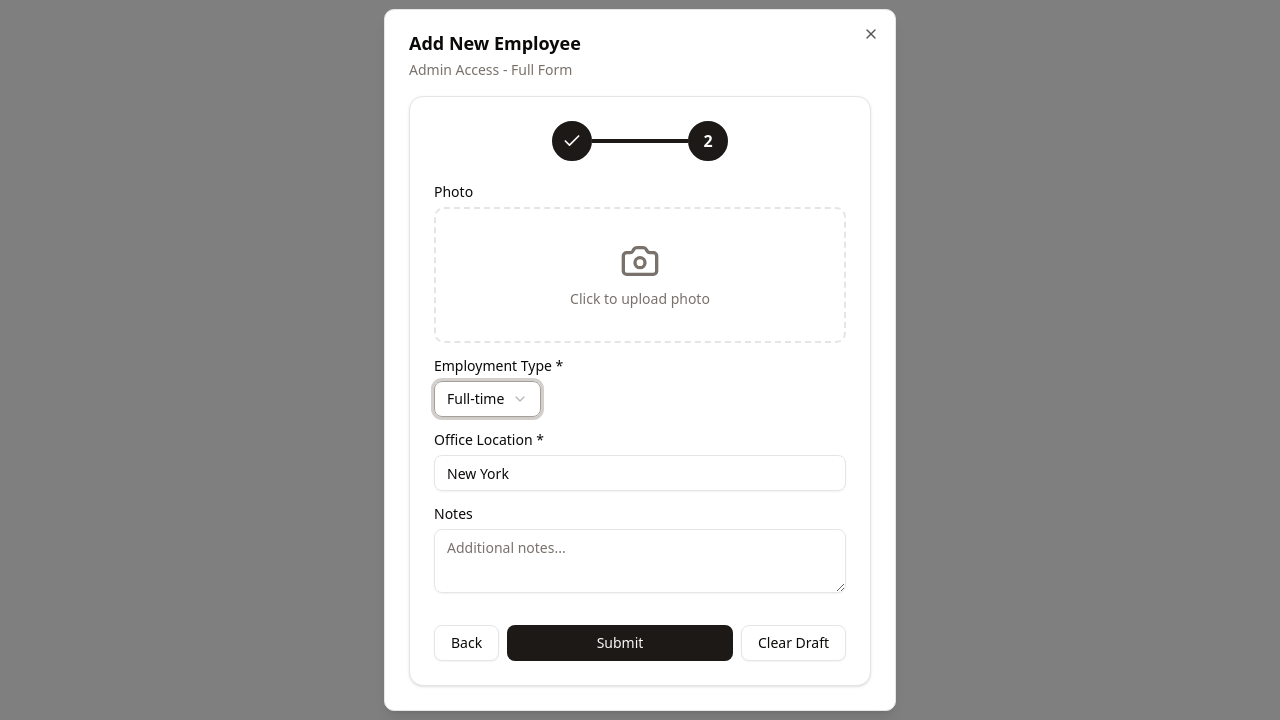
Test: Wizard Component - Submit Flow › should handle submit flow with progress and completion states correctly
Click submit
Click the button "Submit".
click(620, 643)  # box [507,625,733,661]
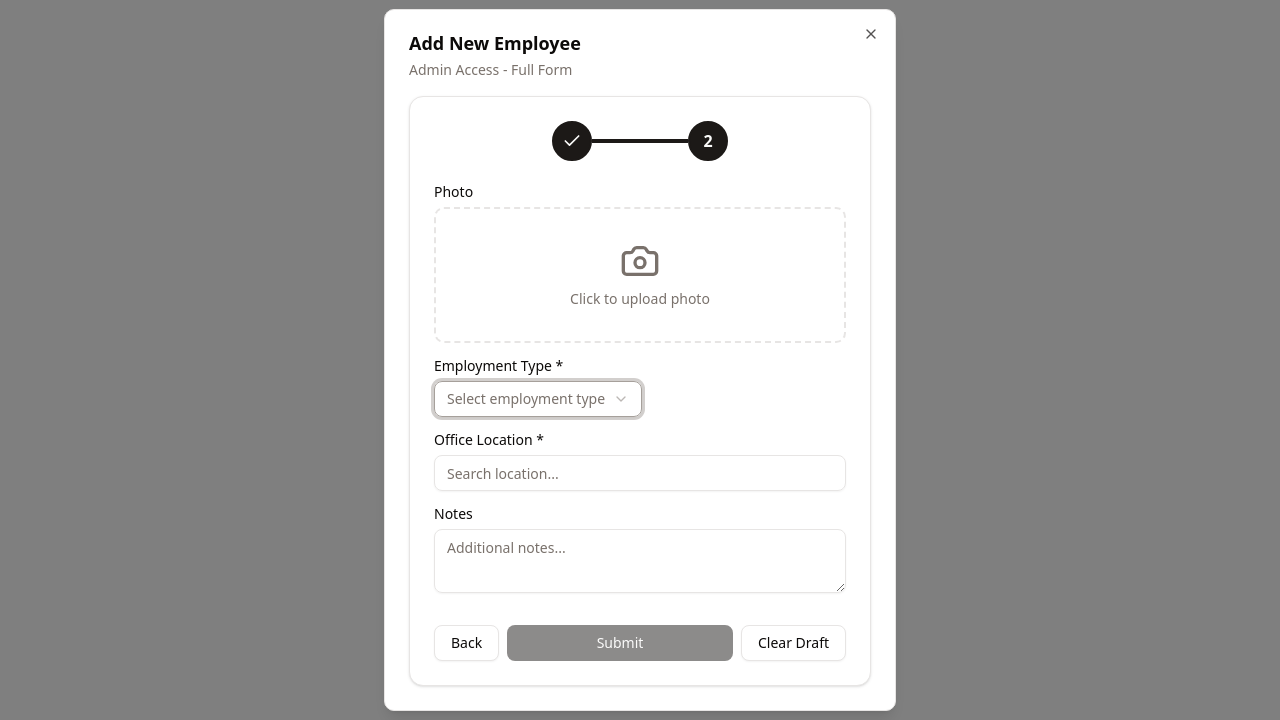
Check: the button "Submitting..." is disabled, box [507,625,733,661]
